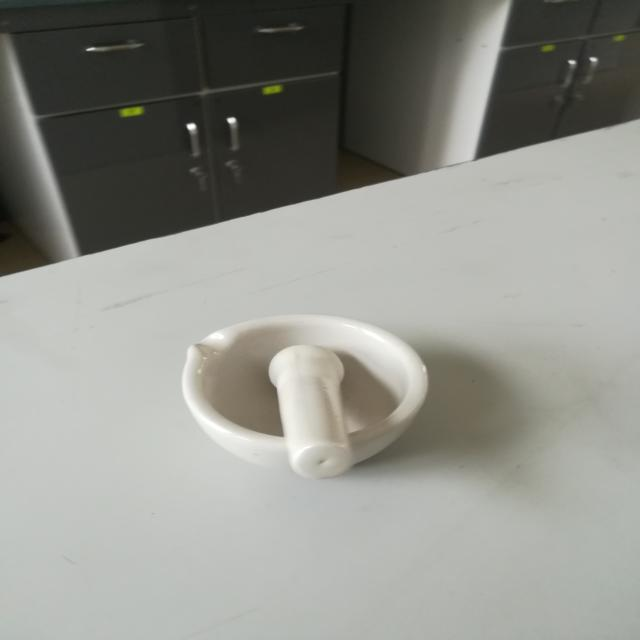Porcelain_Mortar Pestle: (136, 289, 478, 520)
